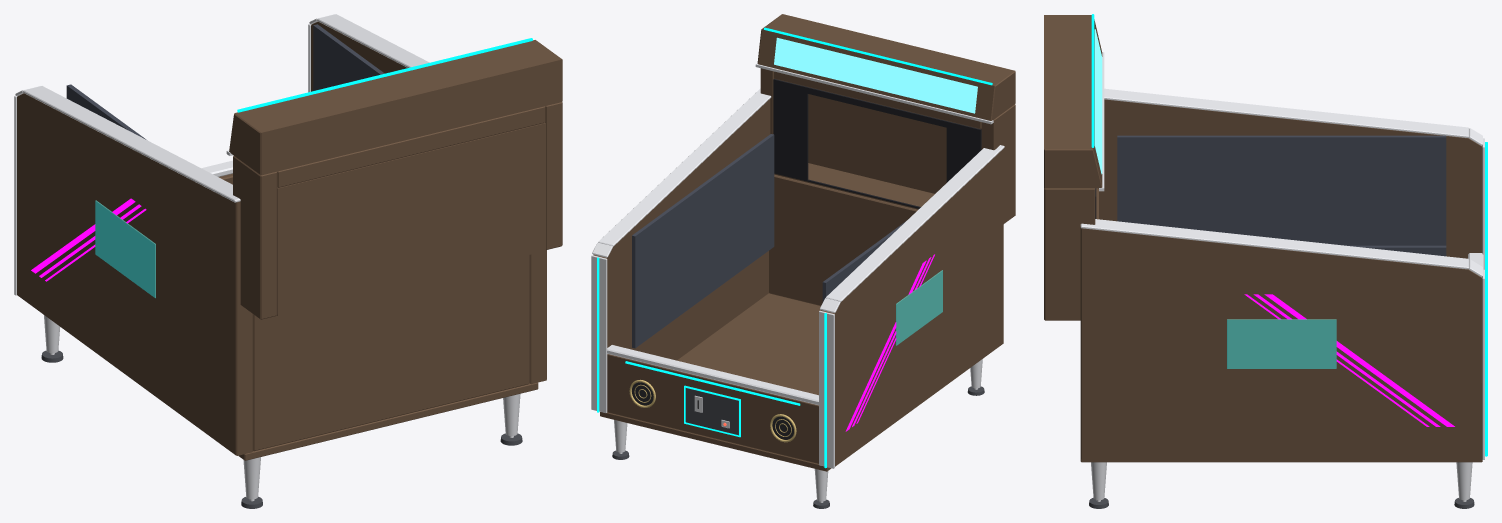
The picture shows the model from 3 angles, left to right: view 1: azimuth 30°, elevation 25°; view 2: azimuth 150°, elevation 25°; view 3: azimuth 270°, elevation 25°; orthographic projection. The views are drawn at different scales.
Visible parts, largest first — view 1: cabinetRightSide, cabinetBackbox, cabinetBackPanel, cabinetMarquee, cabinetRightRail, cabinetLeftSide, classicSidePlateRight, cabinetLeftInner, cabinetBase, cabinetLeftRail, cabinetSideStripeAccent, cabinetNeonMarquee (+4 smaller); view 2: cabinetRightSide, cabinetLeftInner, cabinetBackbox, cabinetBackPanel, cabinetLeftSide, cabinetBase, cabinetFrontPanel, cabinetMarquee, cabinetBezelInset, cabinetMarqueeGlow, cabinetTrimDetail, cabinetRightRail (+11 smaller); view 3: cabinetLeftSide, cabinetRightInner, cabinetRightSide, cabinetMarquee, classicSidePlateLeft, cabinetBackbox, cabinetLeftRail, cabinetRightRail, cabinetSideStripeAccent, cabinetBase, cabinetMarqueeGlow, cabinetTrimDetail (+5 smaller).
Boxes of the visible parts, x1=… form: cabinetRightSide: x1=17, y1=93, x2=252, y2=455; cabinetBackbox: x1=233, y1=102, x2=562, y2=319; cabinetBackPanel: x1=253, y1=255, x2=529, y2=451; cabinetMarquee: x1=229, y1=40, x2=562, y2=175; cabinetRightRail: x1=15, y1=86, x2=240, y2=202; cabinetLeftSide: x1=311, y1=21, x2=546, y2=384; classicSidePlateRight: x1=95, y1=200, x2=155, y2=298; cabinetLeftInner: x1=313, y1=24, x2=384, y2=90; cabinetBase: x1=238, y1=382, x2=538, y2=460; cabinetLeftRail: x1=309, y1=14, x2=429, y2=67; cabinetSideStripeAccent: x1=31, y1=198, x2=146, y2=281; cabinetNeonMarquee: x1=237, y1=38, x2=532, y2=112; cabinetRightSide: x1=821, y1=149, x2=1003, y2=466; cabinetLeftInner: x1=632, y1=134, x2=774, y2=348; cabinetBackbox: x1=760, y1=68, x2=1015, y2=223; cabinetBackPanel: x1=769, y1=174, x2=917, y2=305; cabinetLeftSide: x1=593, y1=99, x2=770, y2=360; cabinetBase: x1=600, y1=293, x2=831, y2=471; cabinetFrontPanel: x1=607, y1=354, x2=818, y2=463; cabinetMarquee: x1=757, y1=14, x2=1015, y2=120; cabinetBezelInset: x1=773, y1=78, x2=981, y2=208; cabinetMarqueeGlow: x1=774, y1=37, x2=977, y2=113; cabinetTrimDetail: x1=591, y1=255, x2=834, y2=468; cabinetRightRail: x1=819, y1=145, x2=1004, y2=313; cabinetLeftSide: x1=1080, y1=228, x2=1482, y2=459; cabinetRightInner: x1=1117, y1=135, x2=1446, y2=245; cabinetRightSide: x1=1098, y1=99, x2=1482, y2=258; cabinetMarquee: x1=1044, y1=15, x2=1102, y2=188; classicSidePlateLeft: x1=1227, y1=319, x2=1336, y2=368; cabinetBackbox: x1=1044, y1=188, x2=1095, y2=320; cabinetLeftRail: x1=1080, y1=219, x2=1482, y2=277; cabinetRightRail: x1=1104, y1=88, x2=1482, y2=145; cabinetSideStripeAccent: x1=1244, y1=294, x2=1454, y2=426; cabinetBase: x1=1080, y1=459, x2=1482, y2=462; cabinetMarqueeGlow: x1=1094, y1=29, x2=1102, y2=174; cabinetTrimDetail: x1=1482, y1=138, x2=1484, y2=459.
Size of the model in its own units: 36.3 by 44.34 by 48.56.
